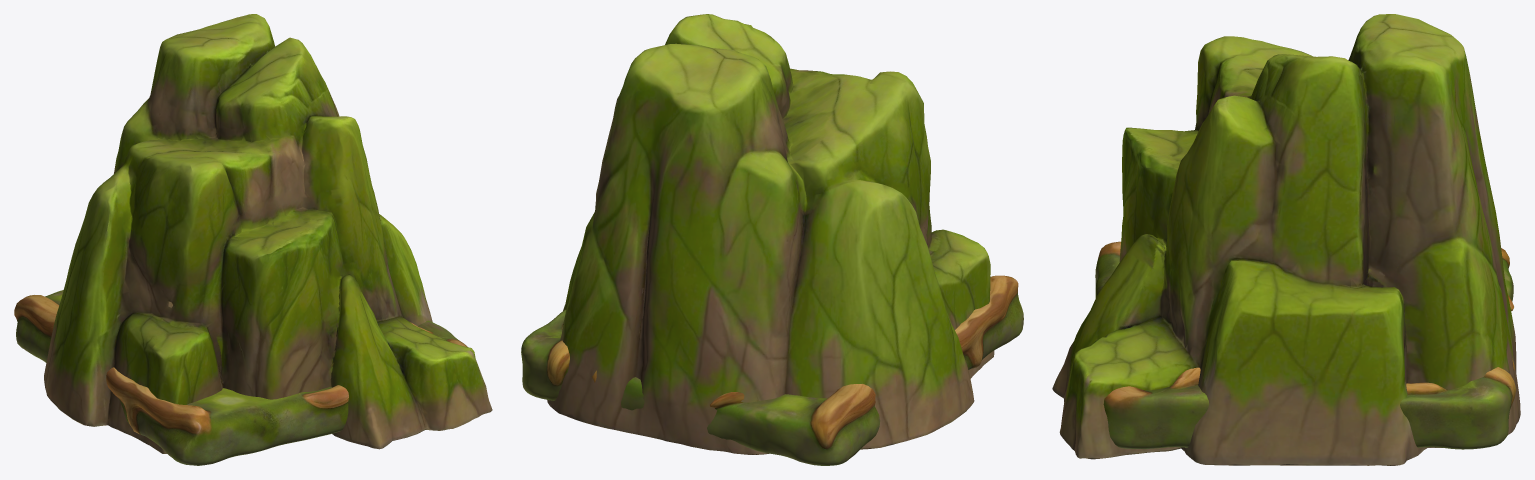
The model's file is mtn_swamp.glb.
3 views of the same model, side by side, from view 1: azimuth 30°, elevation 25°; view 2: azimuth 150°, elevation 25°; view 3: azimuth 270°, elevation 25° (orthographic). The views are drawn at different scales.
Visible parts, largest first — view 1: Mesh1.0, Mesh0; view 2: Mesh1.0, Mesh0; view 3: Mesh1.0, Mesh0.
Boxes of the visible parts, left/top/right/bottom form: Mesh1.0: left=44, top=14, right=492, bottom=453; Mesh0: left=14, top=290, right=467, bottom=465; Mesh1.0: left=547, top=14, right=994, bottom=454; Mesh0: left=521, top=275, right=1023, bottom=465; Mesh1.0: left=1052, top=14, right=1520, bottom=465; Mesh0: left=1095, top=241, right=1516, bottom=449.
Bounding box in the file's own units: 2.36 × 2.09 × 2.48.
2 materials, 2 textured.
